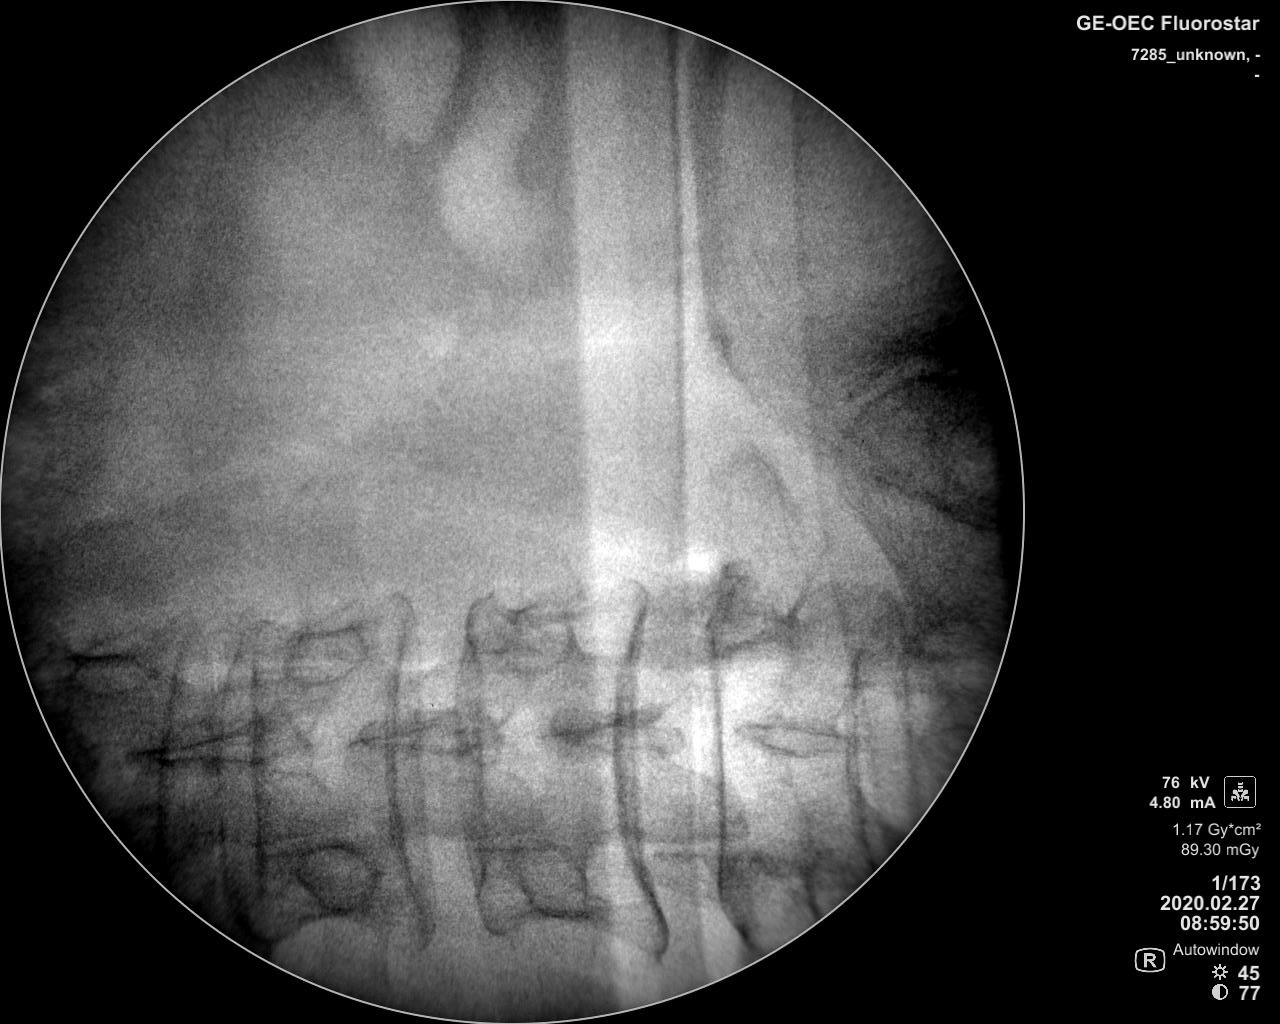eyes: (290, 840, 381, 916), (501, 846, 595, 918), (272, 622, 367, 684), (491, 601, 574, 672), (63, 652, 162, 698), (906, 612, 987, 664)
line: (383, 607, 432, 933), (612, 600, 661, 915), (447, 624, 492, 885), (703, 621, 737, 922), (829, 648, 870, 855), (236, 657, 271, 897), (142, 669, 172, 866), (894, 659, 925, 816)
nose: (122, 717, 306, 772), (340, 711, 511, 763), (534, 716, 686, 763), (731, 713, 868, 764)
